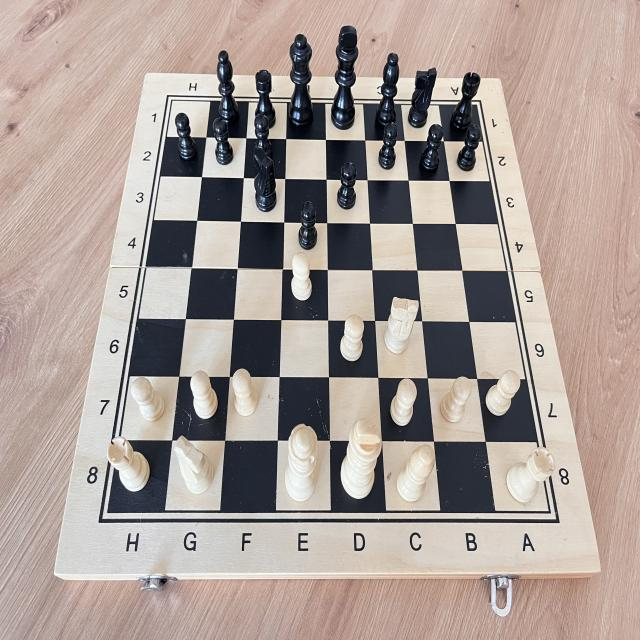black-bishop: (374, 49, 401, 131), (214, 44, 241, 124)
black-king: (329, 23, 360, 133)
black-knight: (406, 61, 438, 130), (249, 145, 279, 215)
black-pawn: (416, 120, 445, 180), (248, 112, 277, 168), (454, 122, 484, 174), (172, 110, 200, 164), (334, 158, 360, 212), (295, 198, 321, 252), (209, 115, 235, 166), (377, 118, 400, 173)
black-queen: (282, 29, 320, 133)
black-rook: (448, 67, 483, 136), (251, 65, 280, 129)
white-bishop: (393, 440, 438, 506)
white-king: (337, 414, 384, 506)
white-knight: (168, 434, 219, 498), (381, 289, 421, 356)
white-pawn: (435, 372, 477, 428), (128, 372, 171, 426), (484, 366, 524, 423), (186, 366, 222, 422), (228, 363, 262, 421), (386, 374, 419, 428), (286, 247, 316, 305), (336, 309, 367, 365)
white-queen: (280, 420, 320, 505)
white-rook: (502, 442, 557, 511), (103, 433, 152, 494)
